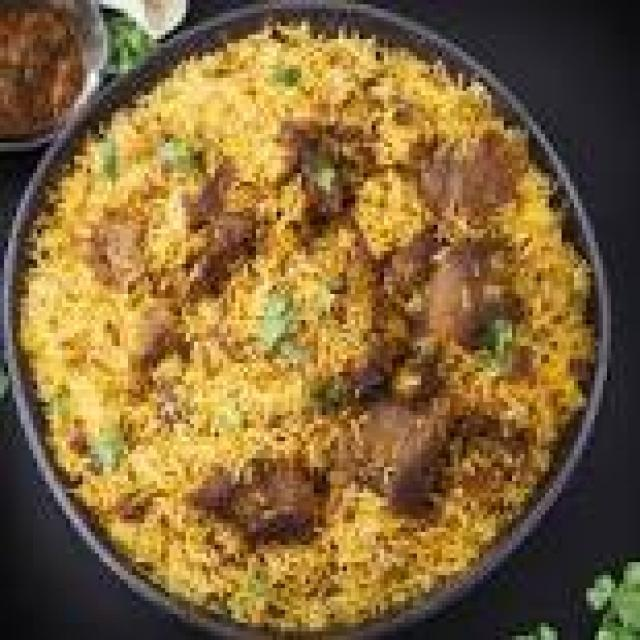Wet: (25, 42, 579, 620)
